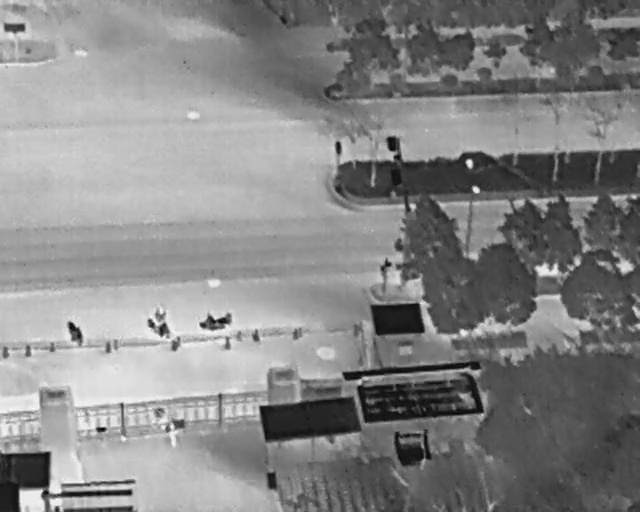Bicycle: (144, 311, 173, 342), (61, 317, 87, 349), (199, 310, 232, 330)
Person: (166, 422, 179, 448), (155, 304, 167, 323)
